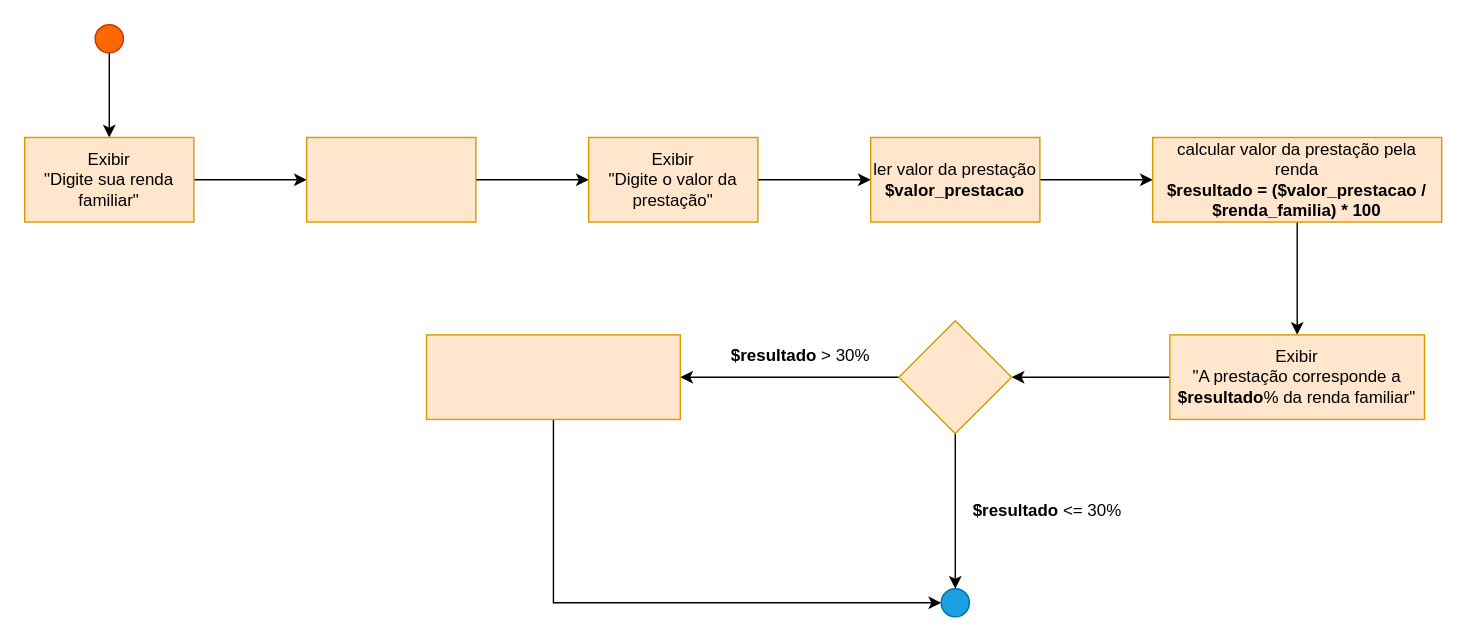
This 1466x642 diagram has some shape labels left out. Here are the shapes that lost their labels. From the top down, the centre of each, then its label:
point (390, 179): ler renda familiar $renda_familia
point (552, 376): Exibir " Será necessário complementar a renda familiar "
